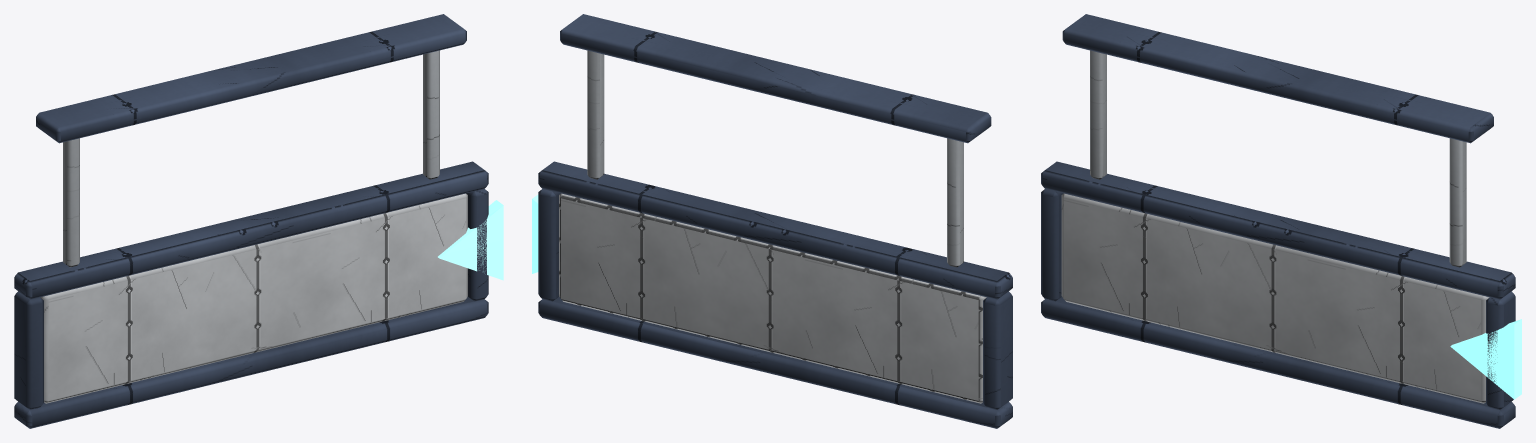
Rendered from hanging_directional.glb.
3 views of the same model, side by side, from view 1: azimuth 30°, elevation 25°; view 2: azimuth 150°, elevation 25°; view 3: azimuth 330°, elevation 25° (orthographic).
Parts seen in each view (by area): view 1: DL017_HangingDirectional_hull_offwhite, DL017_HangingDirectional_graphite_navy, DL017_HangingDirectional_titanium, DL017_HangingDirectional_emissive_cyan; view 2: DL017_HangingDirectional_hull_offwhite, DL017_HangingDirectional_graphite_navy, DL017_HangingDirectional_titanium, DL017_HangingDirectional_emissive_cyan; view 3: DL017_HangingDirectional_hull_offwhite, DL017_HangingDirectional_graphite_navy, DL017_HangingDirectional_titanium, DL017_HangingDirectional_emissive_cyan.
Boxes of the visible parts, x1,y1,x2,y2 form: DL017_HangingDirectional_hull_offwhite: (40, 193, 467, 403); DL017_HangingDirectional_graphite_navy: (14, 14, 488, 428); DL017_HangingDirectional_titanium: (63, 50, 439, 267); DL017_HangingDirectional_emissive_cyan: (438, 200, 503, 280); DL017_HangingDirectional_hull_offwhite: (559, 193, 986, 403); DL017_HangingDirectional_graphite_navy: (538, 14, 1012, 428); DL017_HangingDirectional_titanium: (587, 50, 963, 267); DL017_HangingDirectional_emissive_cyan: (532, 194, 538, 273); DL017_HangingDirectional_hull_offwhite: (1061, 193, 1489, 403); DL017_HangingDirectional_graphite_navy: (1041, 14, 1515, 428); DL017_HangingDirectional_titanium: (1090, 50, 1466, 267); DL017_HangingDirectional_emissive_cyan: (1450, 319, 1521, 399).
Size of the model in its own units: 1.85 by 1.11 by 0.16.
Materials: 4 (3 with a texture image).
